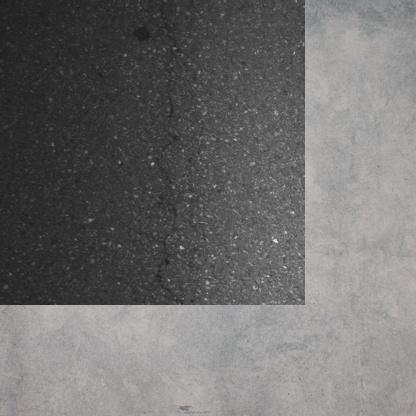Cracks: (144, 190, 173, 282), (144, 0, 171, 67)
